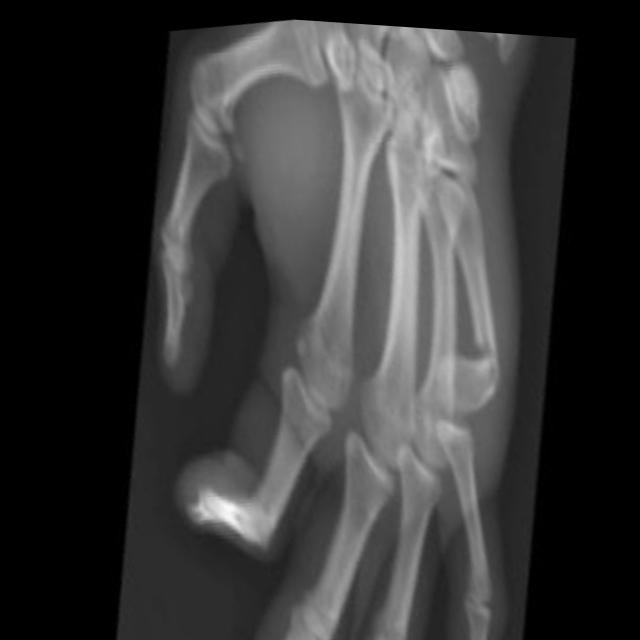fracture: (456, 304, 516, 407)
